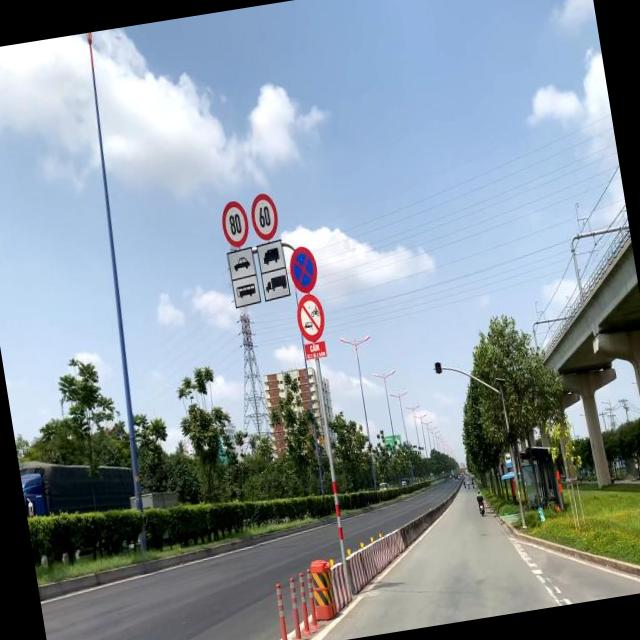P-104: (293, 291, 329, 343)
P-127: (248, 192, 282, 244), (218, 200, 252, 250)
P-130: (286, 245, 322, 293)
